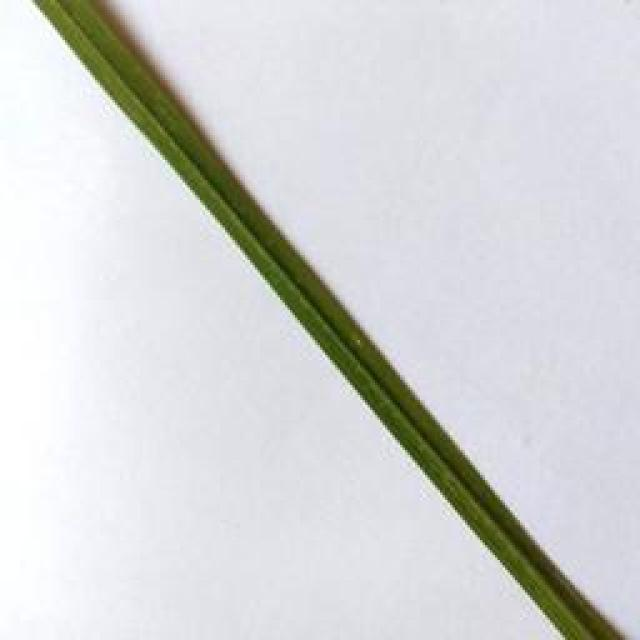Healthy-Plant: (33, 0, 615, 640)
